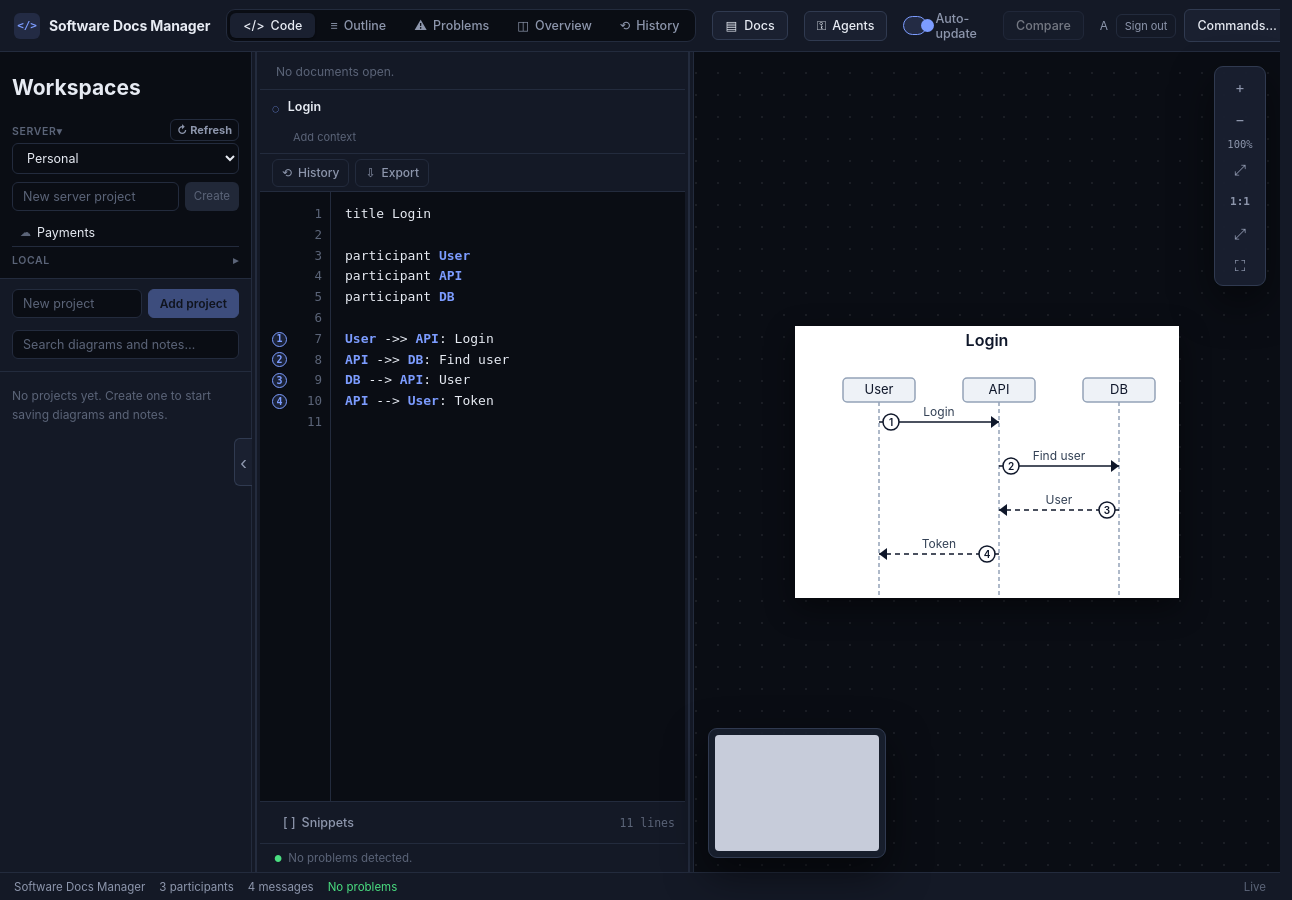
Test: App — authenticated browser › refreshes externally changed server data without reloading the page
Click the button with test id "workspace-server-project" at [126, 232], box [12,219,239,246]
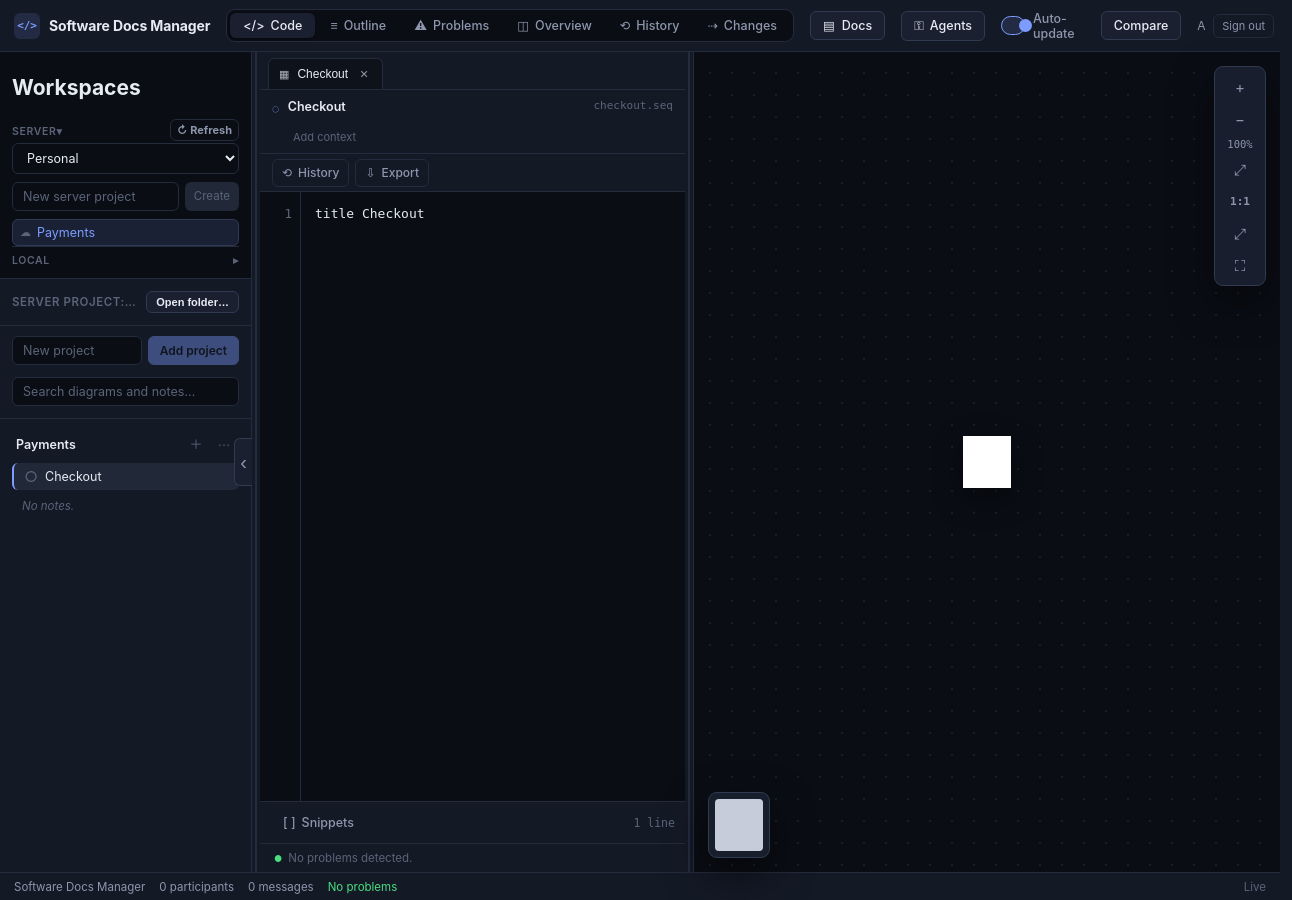
Expected: the text box with test id "dsl-textarea" holds "title Checkout", [301,192,685,801]
Click the button with test id "workspace-server-refresh" at [205, 130], box [170,119,239,141]
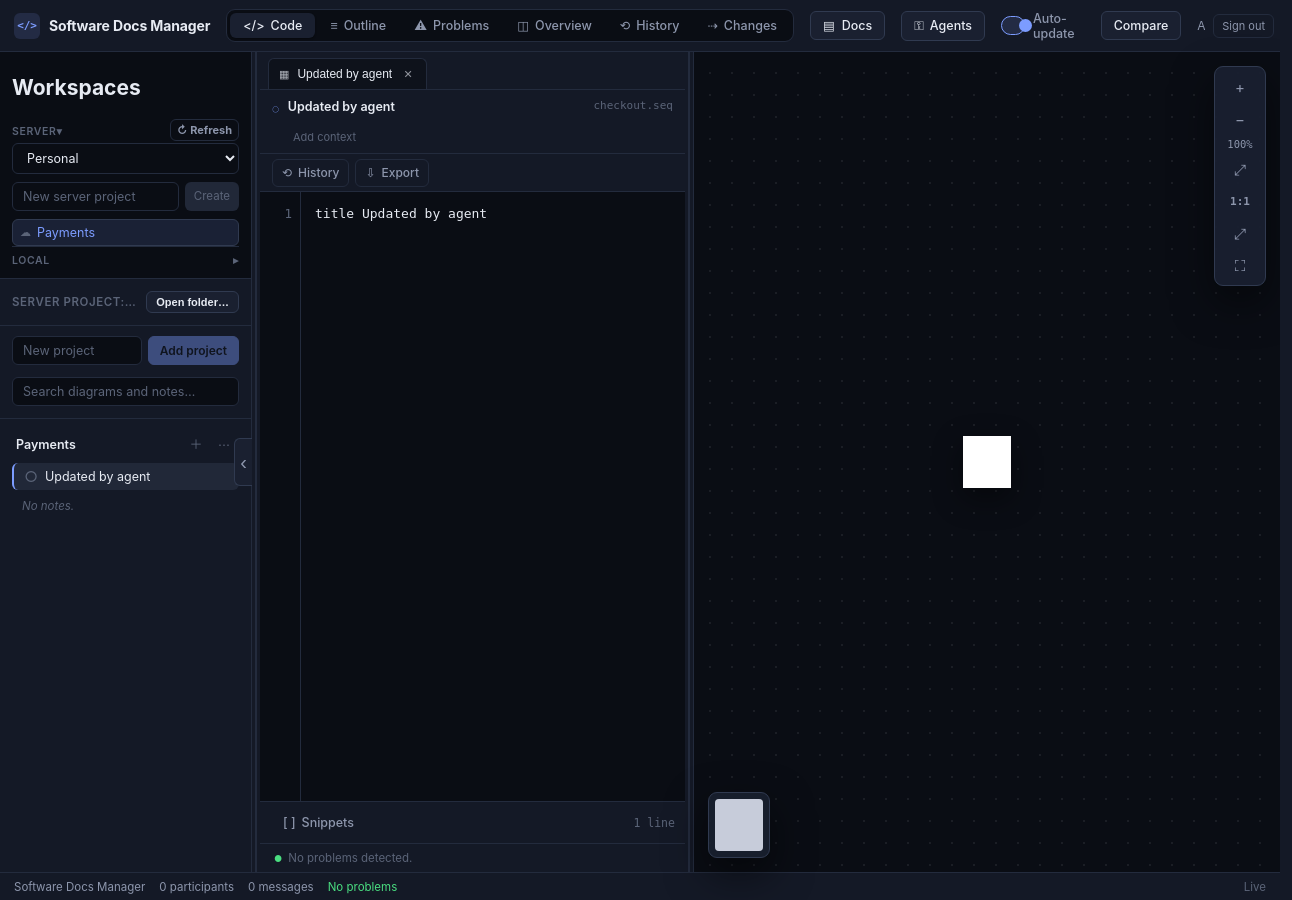
Expected: the text box with test id "dsl-textarea" holds "title Updated by agent", [301,192,685,801]
